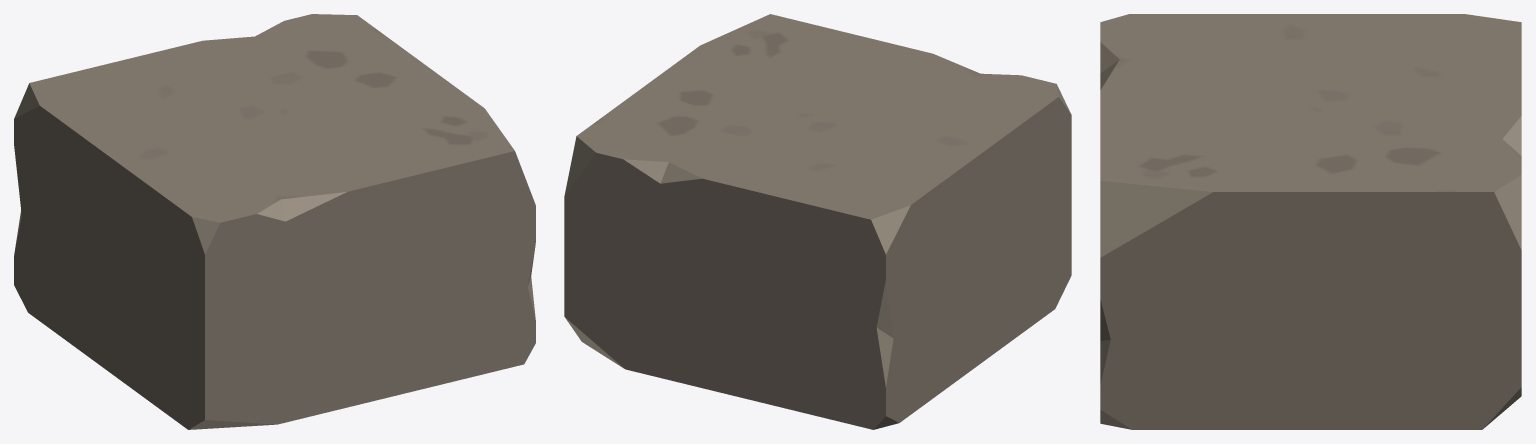
The model's file is SM_Bld_Concrete_Pillar_Short_03.fbx.
The picture shows the model from 3 angles, left to right: view 1: azimuth 30°, elevation 25°; view 2: azimuth 150°, elevation 25°; view 3: azimuth 270°, elevation 25°; orthographic projection. The views are drawn at different scales.
Visible parts, largest first — view 1: SM_Bld_Concrete_Pillar_Short_03; view 2: SM_Bld_Concrete_Pillar_Short_03; view 3: SM_Bld_Concrete_Pillar_Short_03.
Part boxes in pixels (box(x1,y1,x2,y2)): SM_Bld_Concrete_Pillar_Short_03: box(14, 14, 535, 429); SM_Bld_Concrete_Pillar_Short_03: box(564, 14, 1071, 429); SM_Bld_Concrete_Pillar_Short_03: box(1100, 14, 1521, 429).
Bounding box in the file's own units: 100 × 62.28 × 100.
